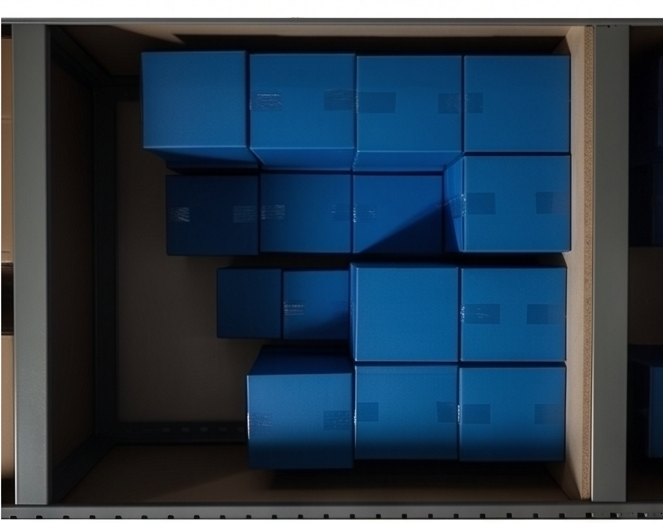blue_box: (402, 360, 521, 472), (310, 55, 415, 178), (91, 272, 221, 369), (201, 355, 308, 468), (308, 356, 413, 470), (203, 162, 316, 261), (92, 372, 199, 469), (97, 162, 202, 258), (97, 63, 204, 156), (205, 63, 308, 159), (403, 269, 497, 349), (312, 271, 403, 350), (221, 272, 311, 350), (312, 185, 379, 255), (381, 185, 446, 254)
